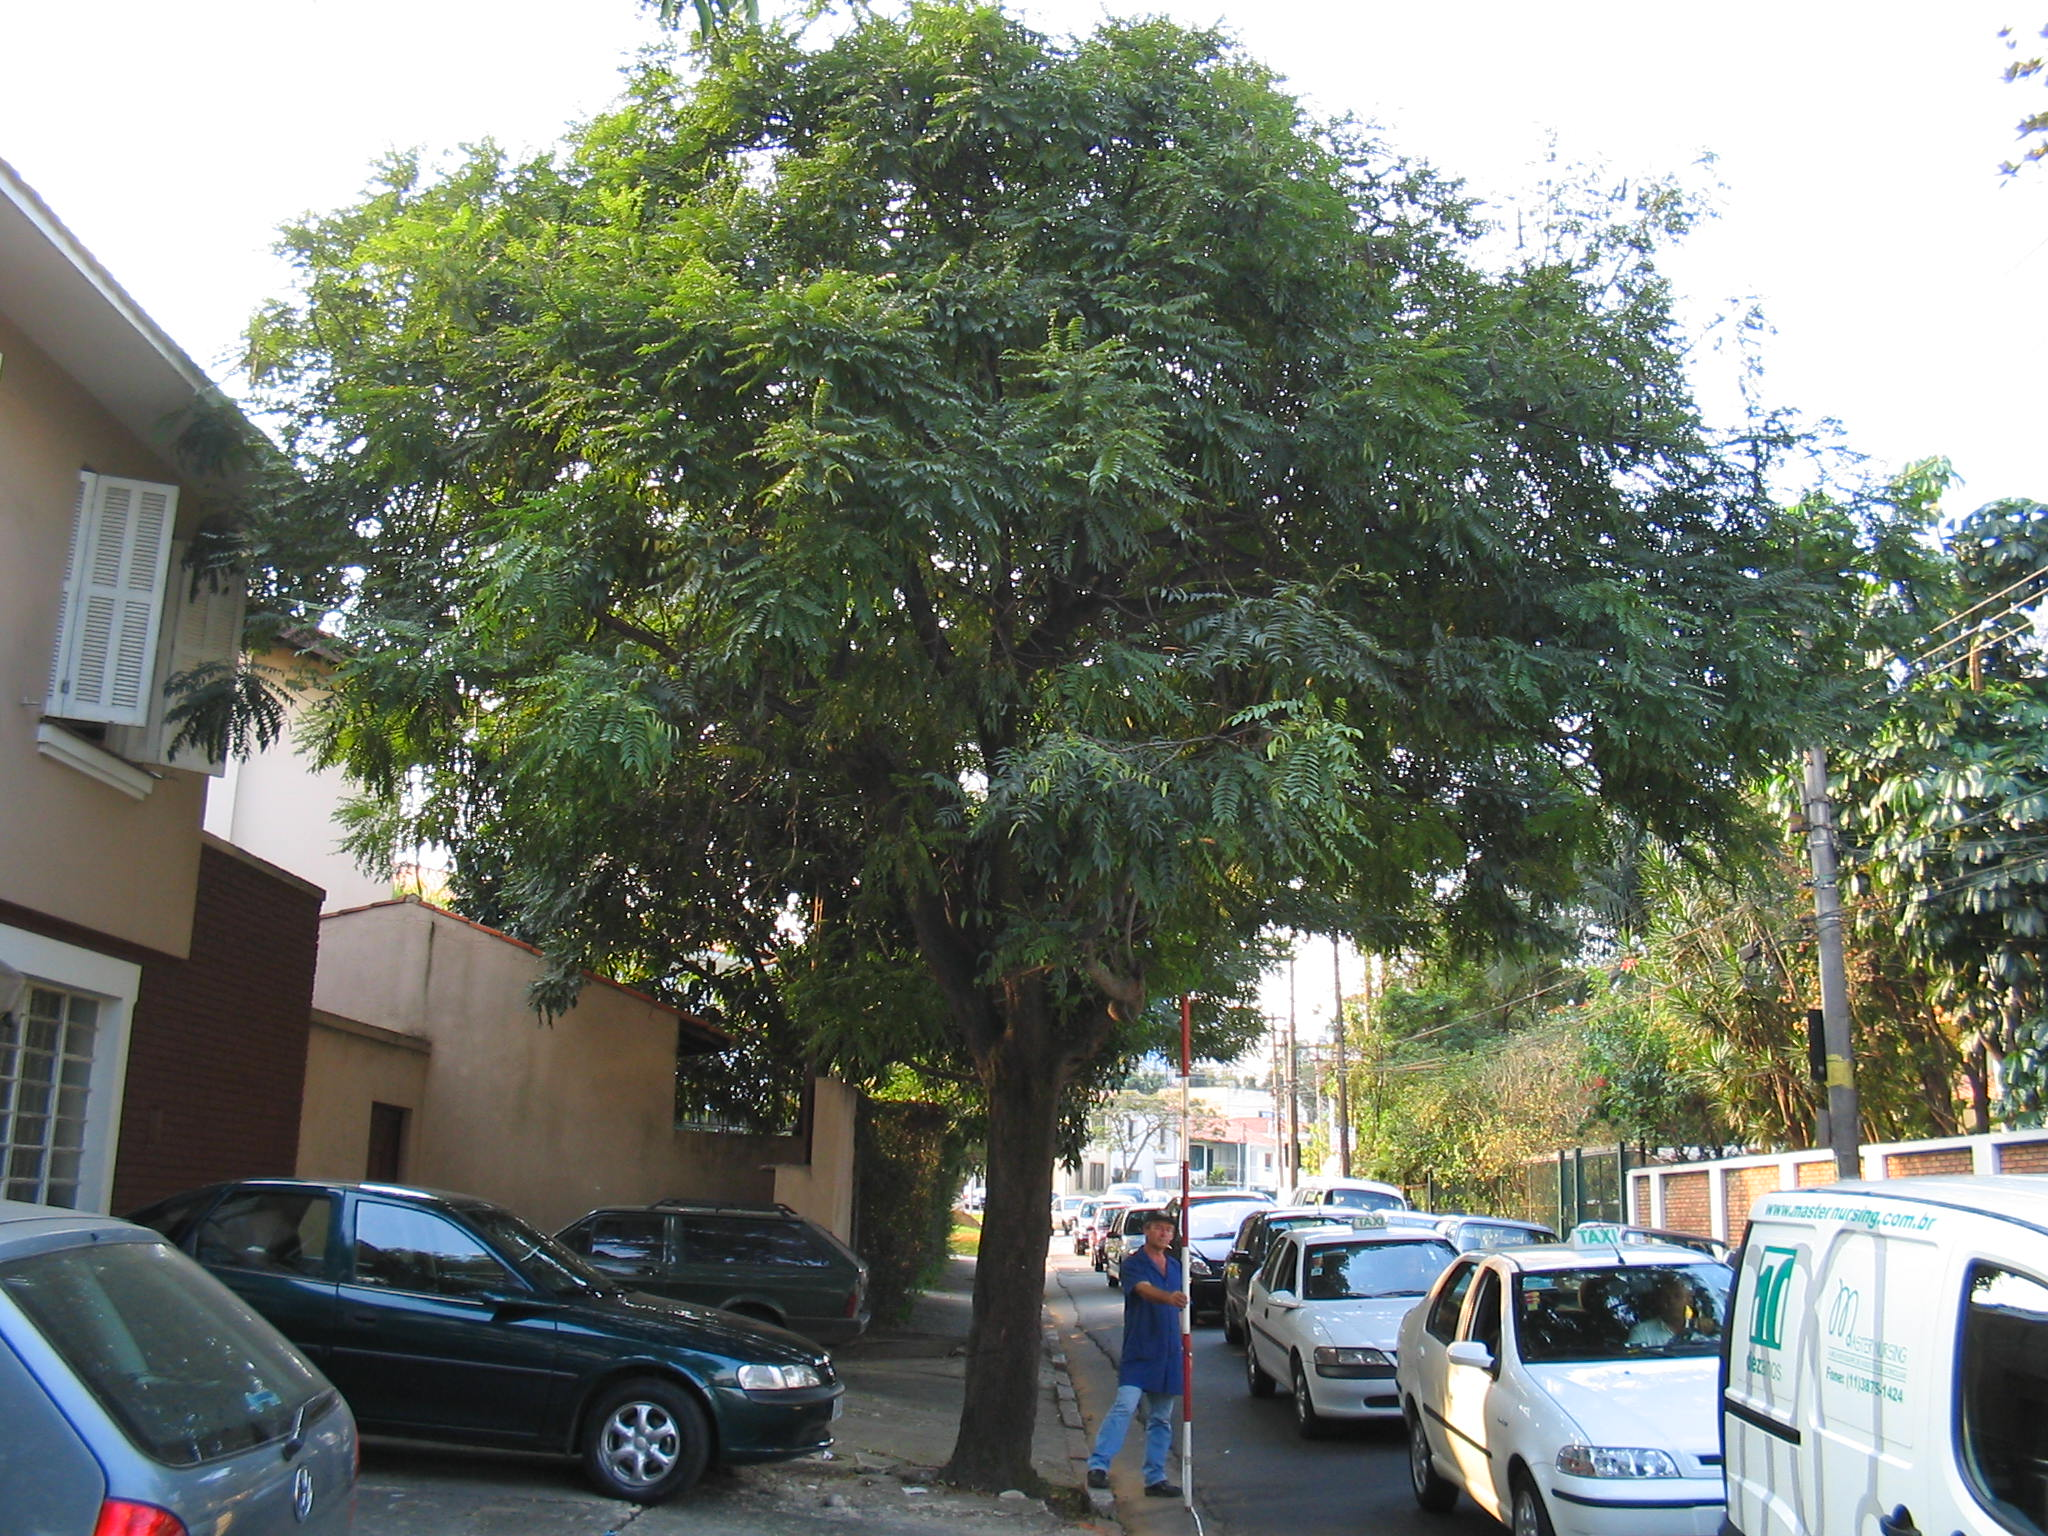crown: (173, 10, 1942, 1125)
stem: (926, 1083, 1074, 1486)
stick: (1166, 991, 1201, 1504)
tree: (163, 5, 1951, 1492)
